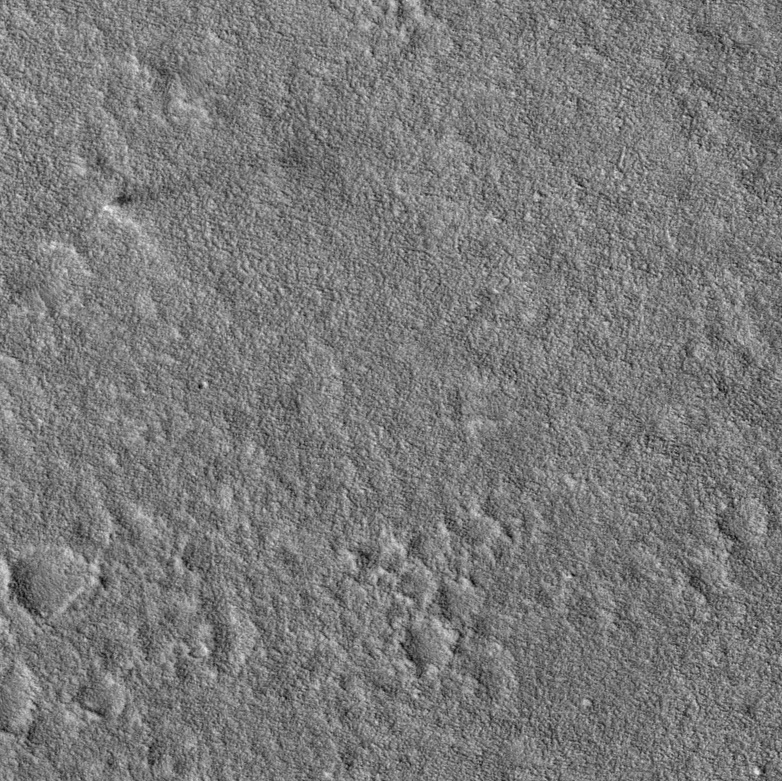dust_devil: (100, 183, 179, 215)
